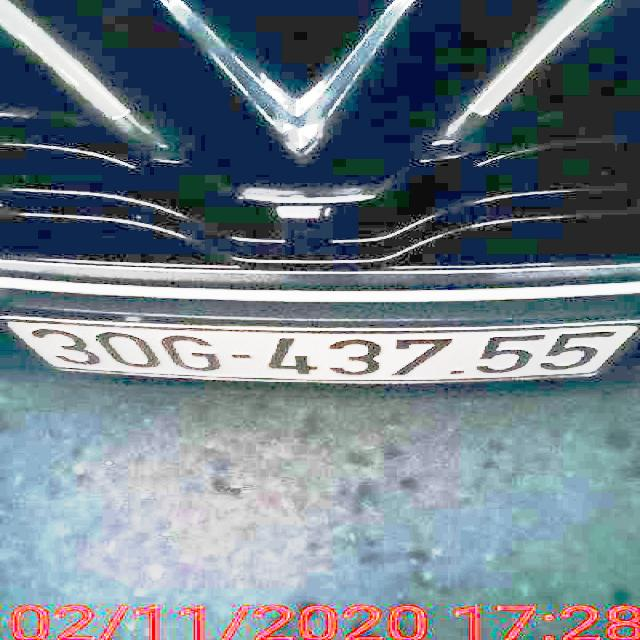license_plate: (1, 319, 631, 383)
